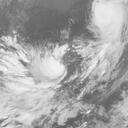cyclone: (26, 43, 72, 85), (91, 1, 127, 36)
